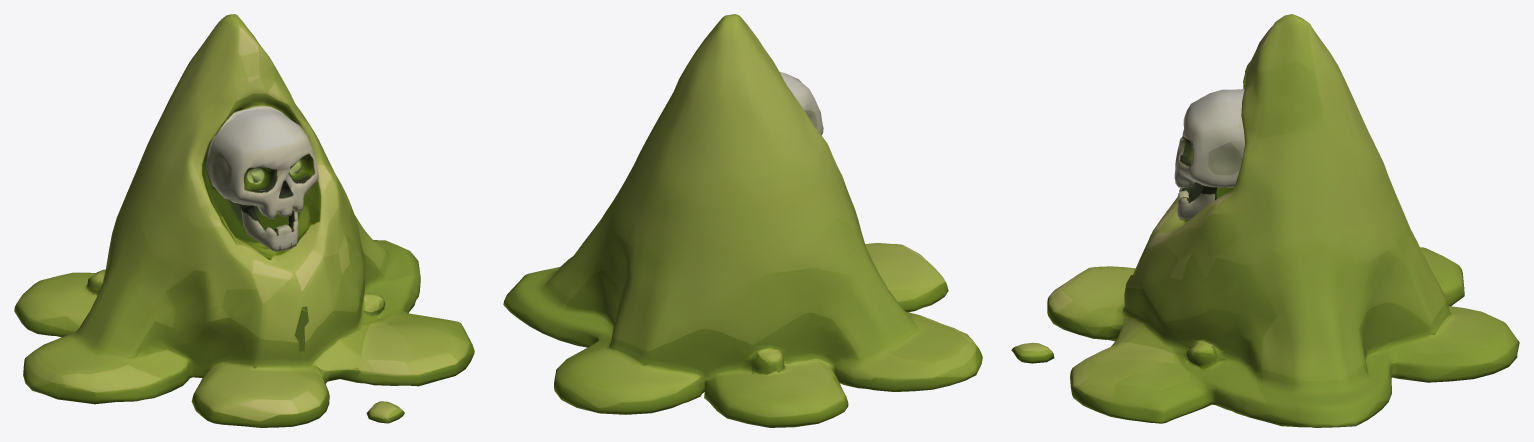
The model's file is glut.fbx.
3 views of the same model, side by side, from view 1: azimuth 30°, elevation 25°; view 2: azimuth 150°, elevation 25°; view 3: azimuth 270°, elevation 25° (orthographic). The views are drawn at different scales.
Parts seen in each view (by area): view 1: tripo_node_10815754; view 2: tripo_node_10815754; view 3: tripo_node_10815754.
Part boxes in pixels (x1,y1,x2,y2): tripo_node_10815754: (14,14,474,427); tripo_node_10815754: (503,14,982,427); tripo_node_10815754: (1011,14,1519,427).
Size of the model in its own units: 92.73 by 94.68 by 67.38.
Materials: 1 (1 with a texture image).
